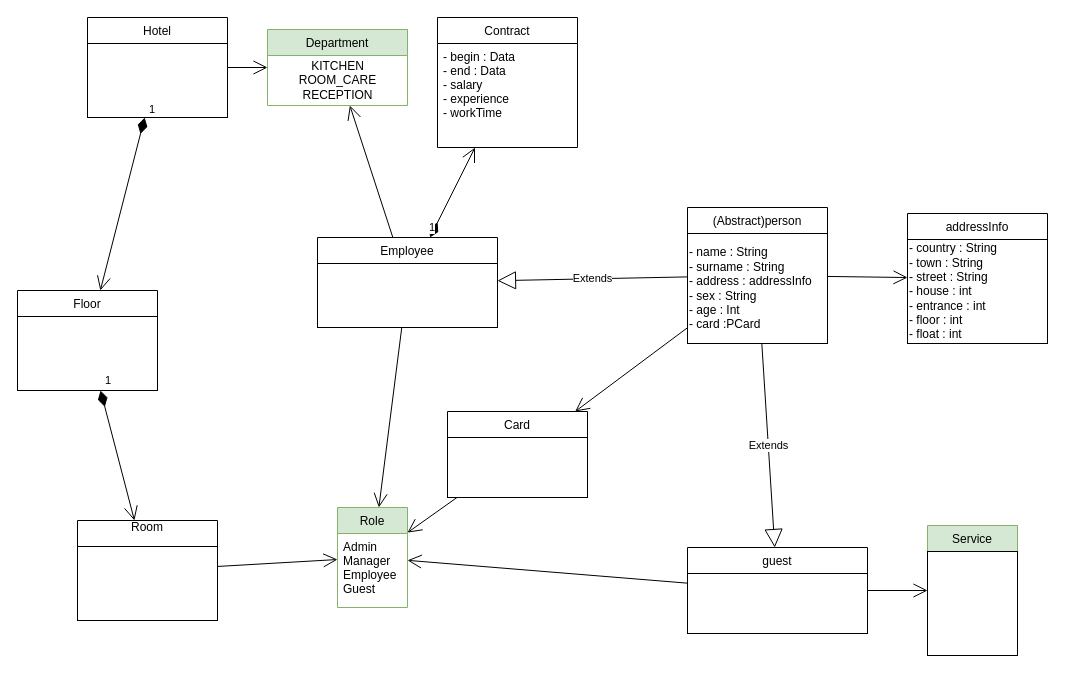
This 1065x676 diagram has some shape labels left out. The centre of each missing label's shape, as x and y in pixels:
"- address : AddressInfo - Floors : Set - Departments : Set" goes at (157,80).
"- department : Department - role : Role - rooms : Set" goes at (407,295).
"- expireData : Data - num : int - role : Role" goes at (517,467).
"- floorNum : int - Rooms : Set" goes at (87,353).
"- role = GUEST : Role - room : Room - service : Set" goes at (777,603).
"- roomNum : int - role : Role" goes at (147,583).
"BREAKFAST, LUNCH, DINNER, BAR, DISCO" goes at (972,603).
